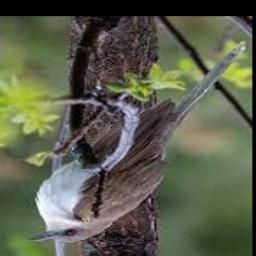Cuckoo: (27, 41, 246, 243)
